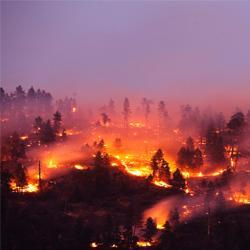fire: (123, 156, 153, 177), (150, 213, 167, 231), (18, 183, 39, 193), (47, 161, 63, 172)
